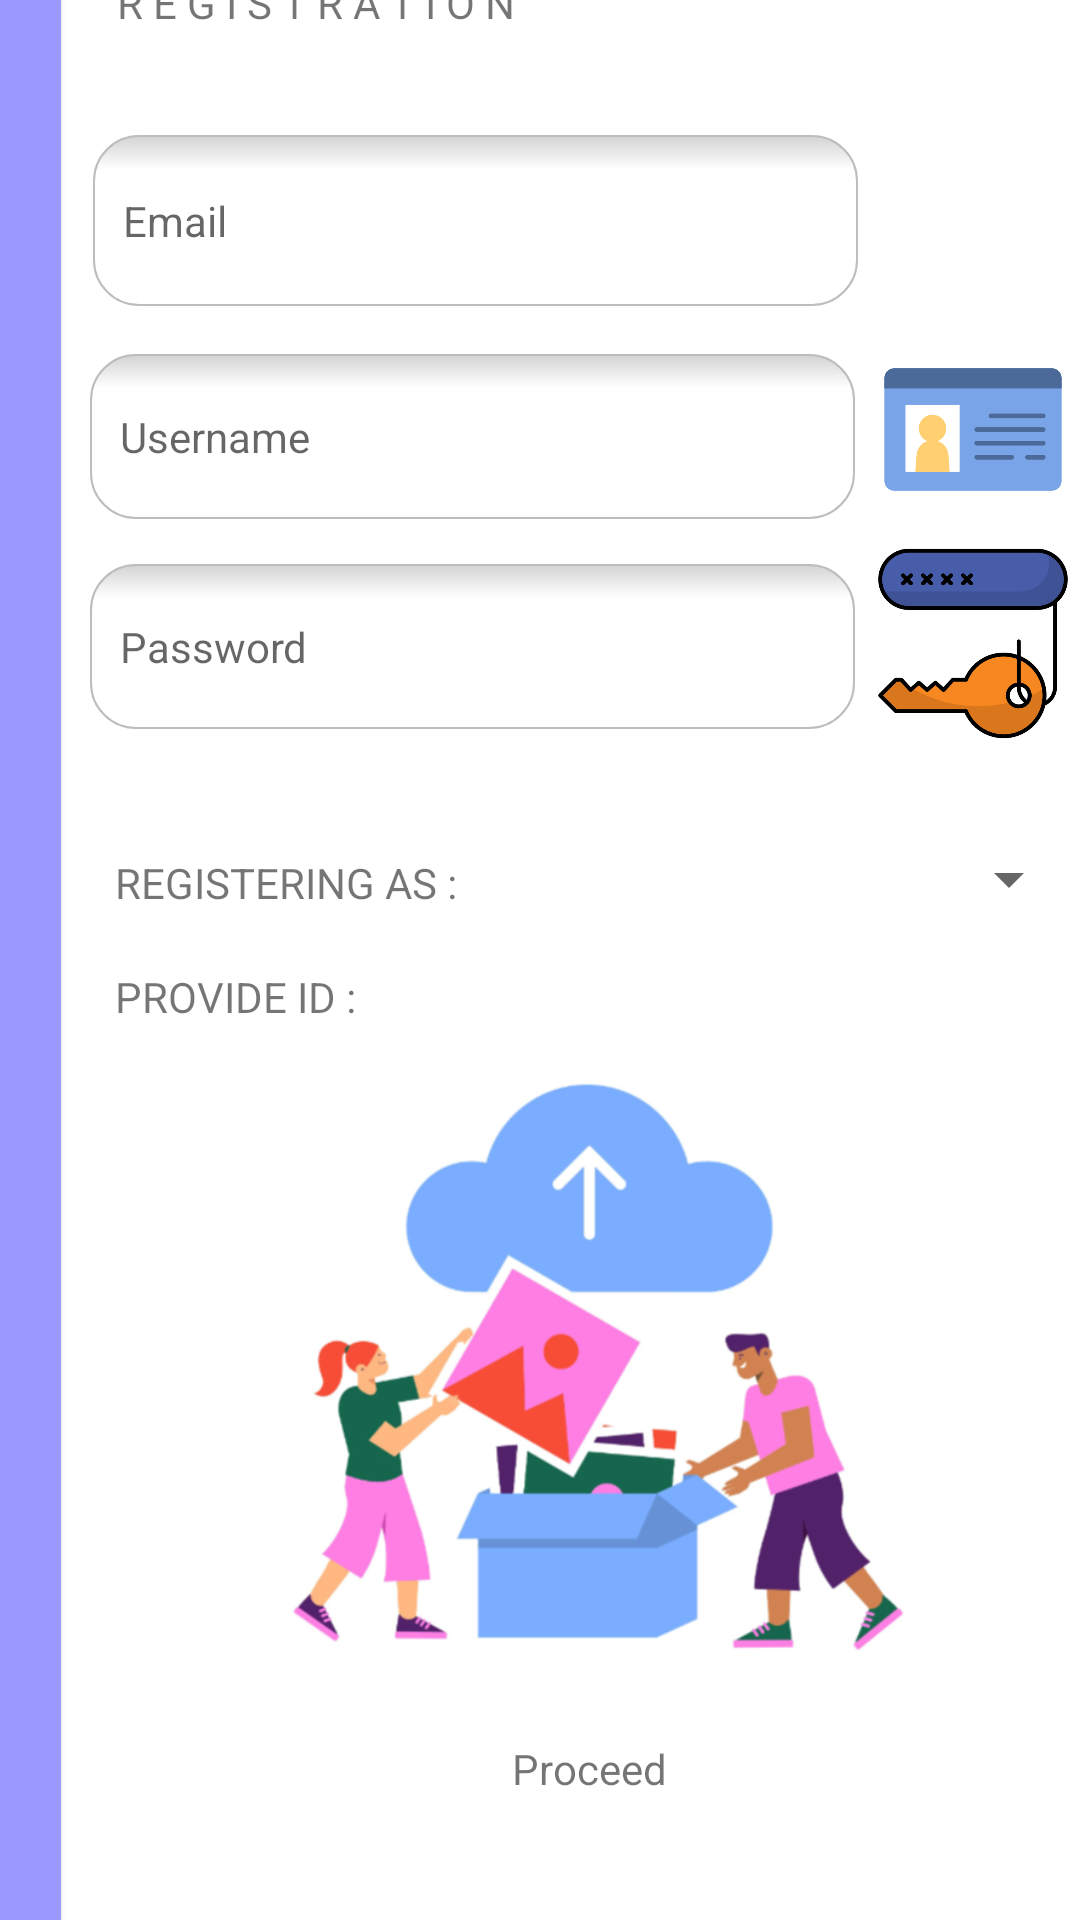

Screen size 1080x1920. Icon name, then its box in pixels as (x1, y1, x2, y2):
id card: (884, 368, 1062, 491)
